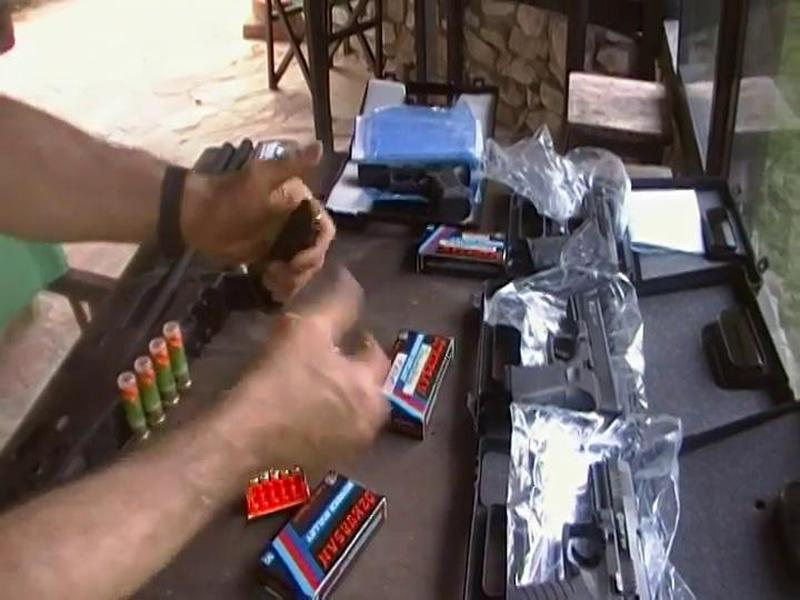Pistola: (477, 453, 662, 600), (478, 277, 640, 430)
